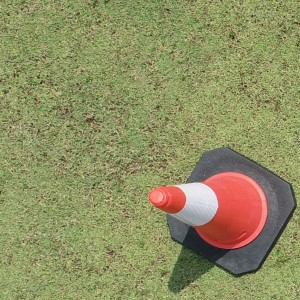traffic cone: (148, 148, 297, 278)
